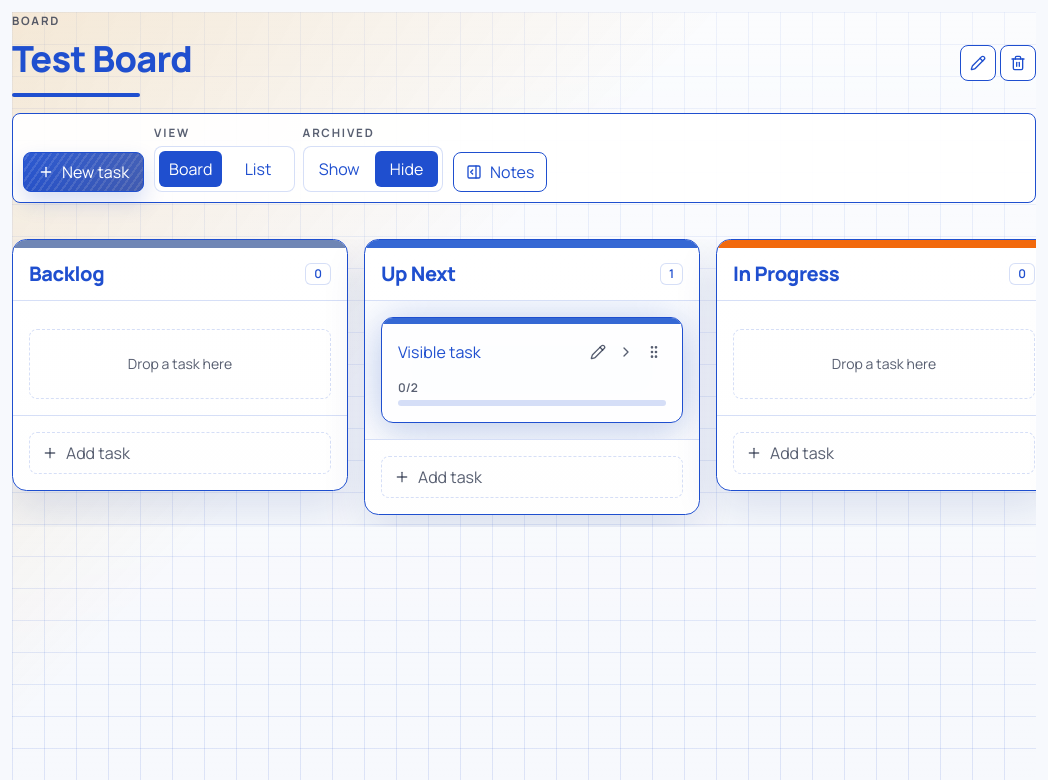
BoardWorkspace subtask panel granular API › reverts a failed subtask title without changing sibling rows
Click the button named "Open subtasks menu".
click(626, 352)  # box [614, 340, 638, 364]
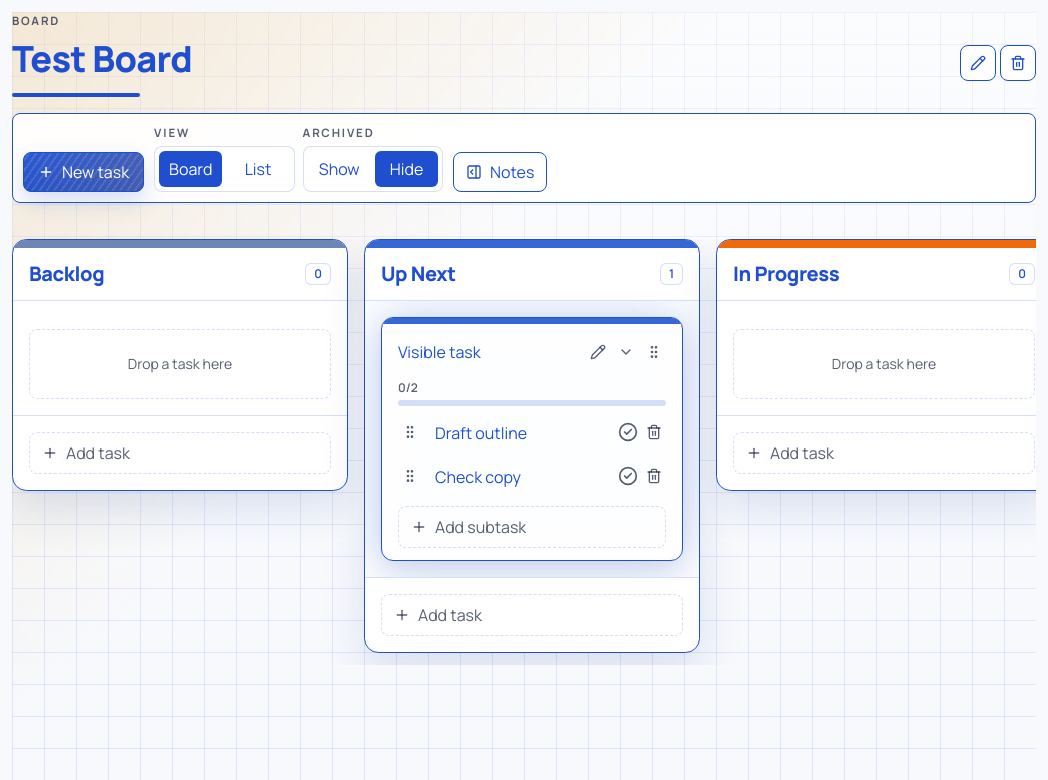
Replace the text in the 1st text box showing "Draft outline" with "Rejected rename" at coordinates (518, 432), box [426, 416, 610, 448]
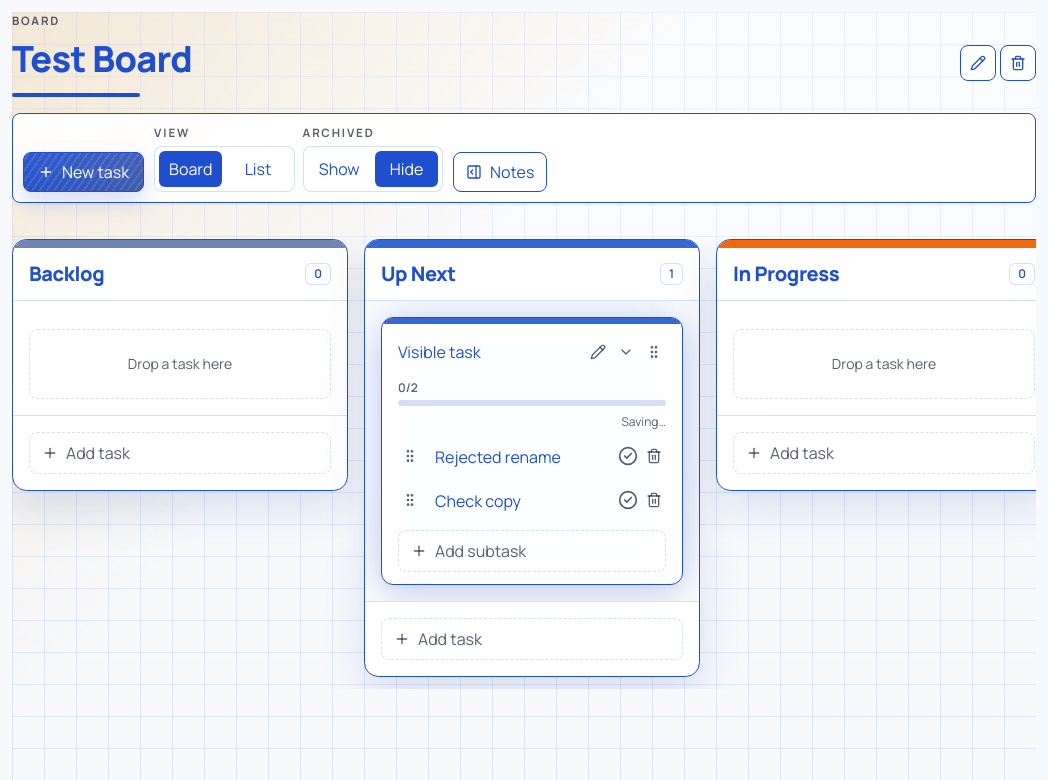
Press Enter in the 1st text box showing "Draft outline", box [426, 440, 610, 472]
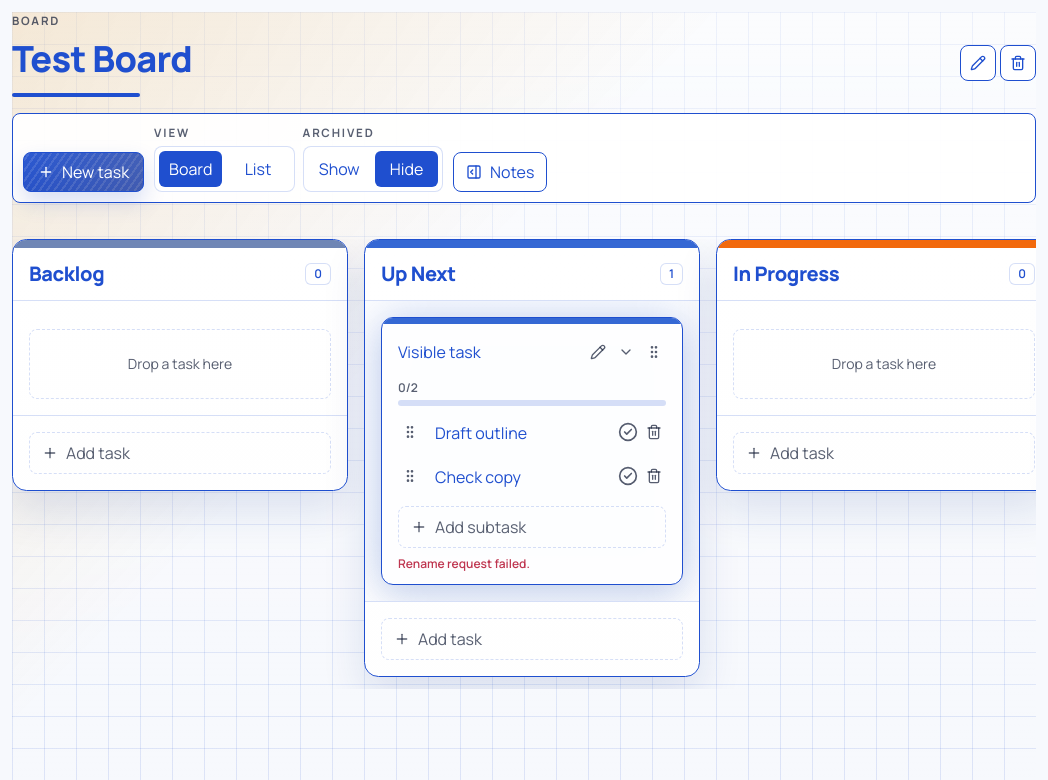
Now the 2nd text box showing "Check copy" is shown, box [426, 460, 610, 492]
Now the message reads "Rename request failed.", box [398, 554, 530, 572]
